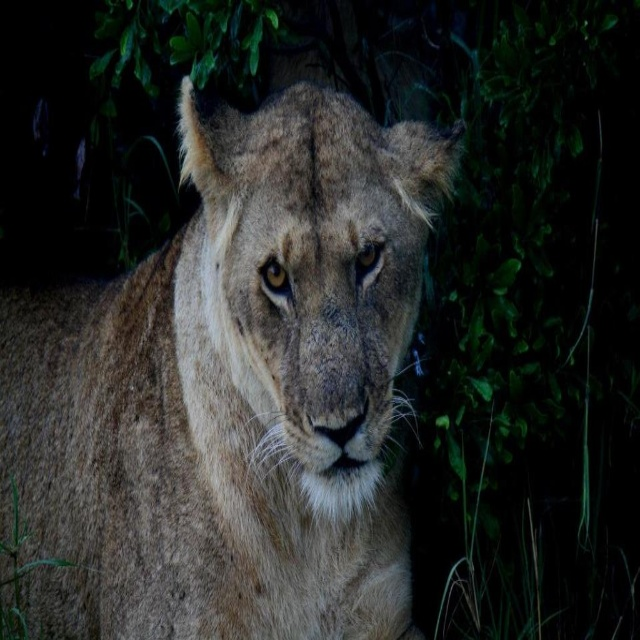Lion: (0, 75, 467, 640)
